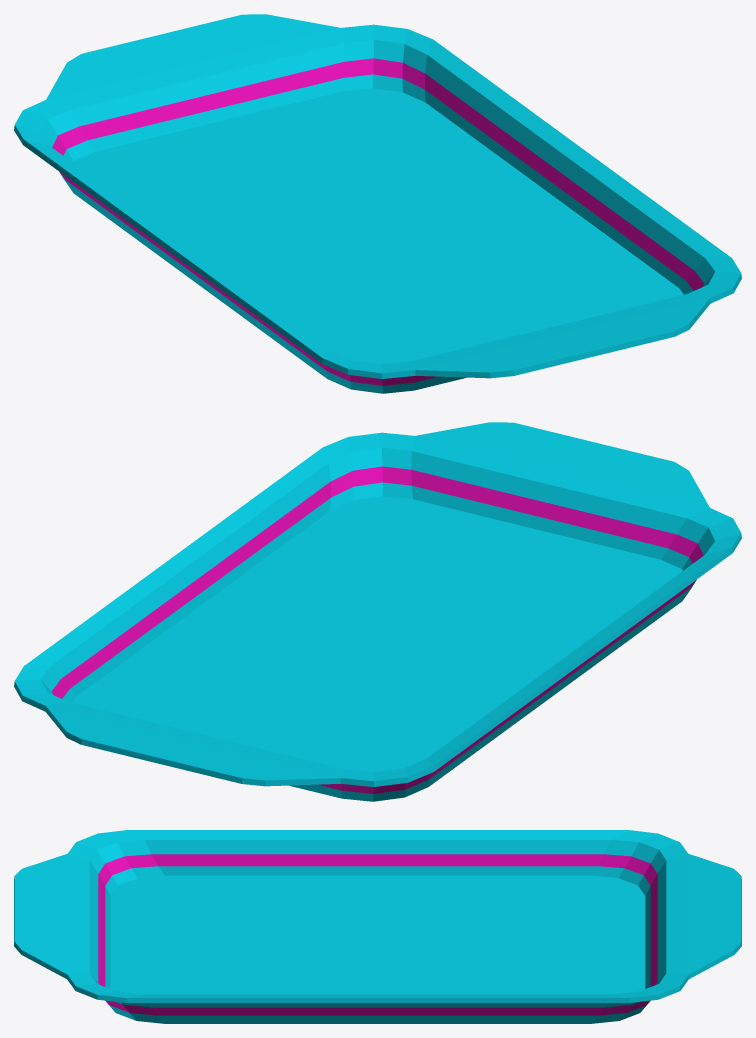
Rendered from Nampan biru.fbx.
3 views of the same model, one above another, from view 1: azimuth 30°, elevation 25°; view 2: azimuth 150°, elevation 25°; view 3: azimuth 270°, elevation 25° (orthographic). The views are drawn at different scales.
Visible parts, largest first — view 1: Cube; view 2: Cube; view 3: Cube.
Part boxes in pixels (bbox=[...]): Cube: bbox=[14, 14, 741, 393]; Cube: bbox=[14, 422, 741, 801]; Cube: bbox=[14, 830, 741, 1023].
Bounding box in the file's own units: 231 × 27.08 × 422.
